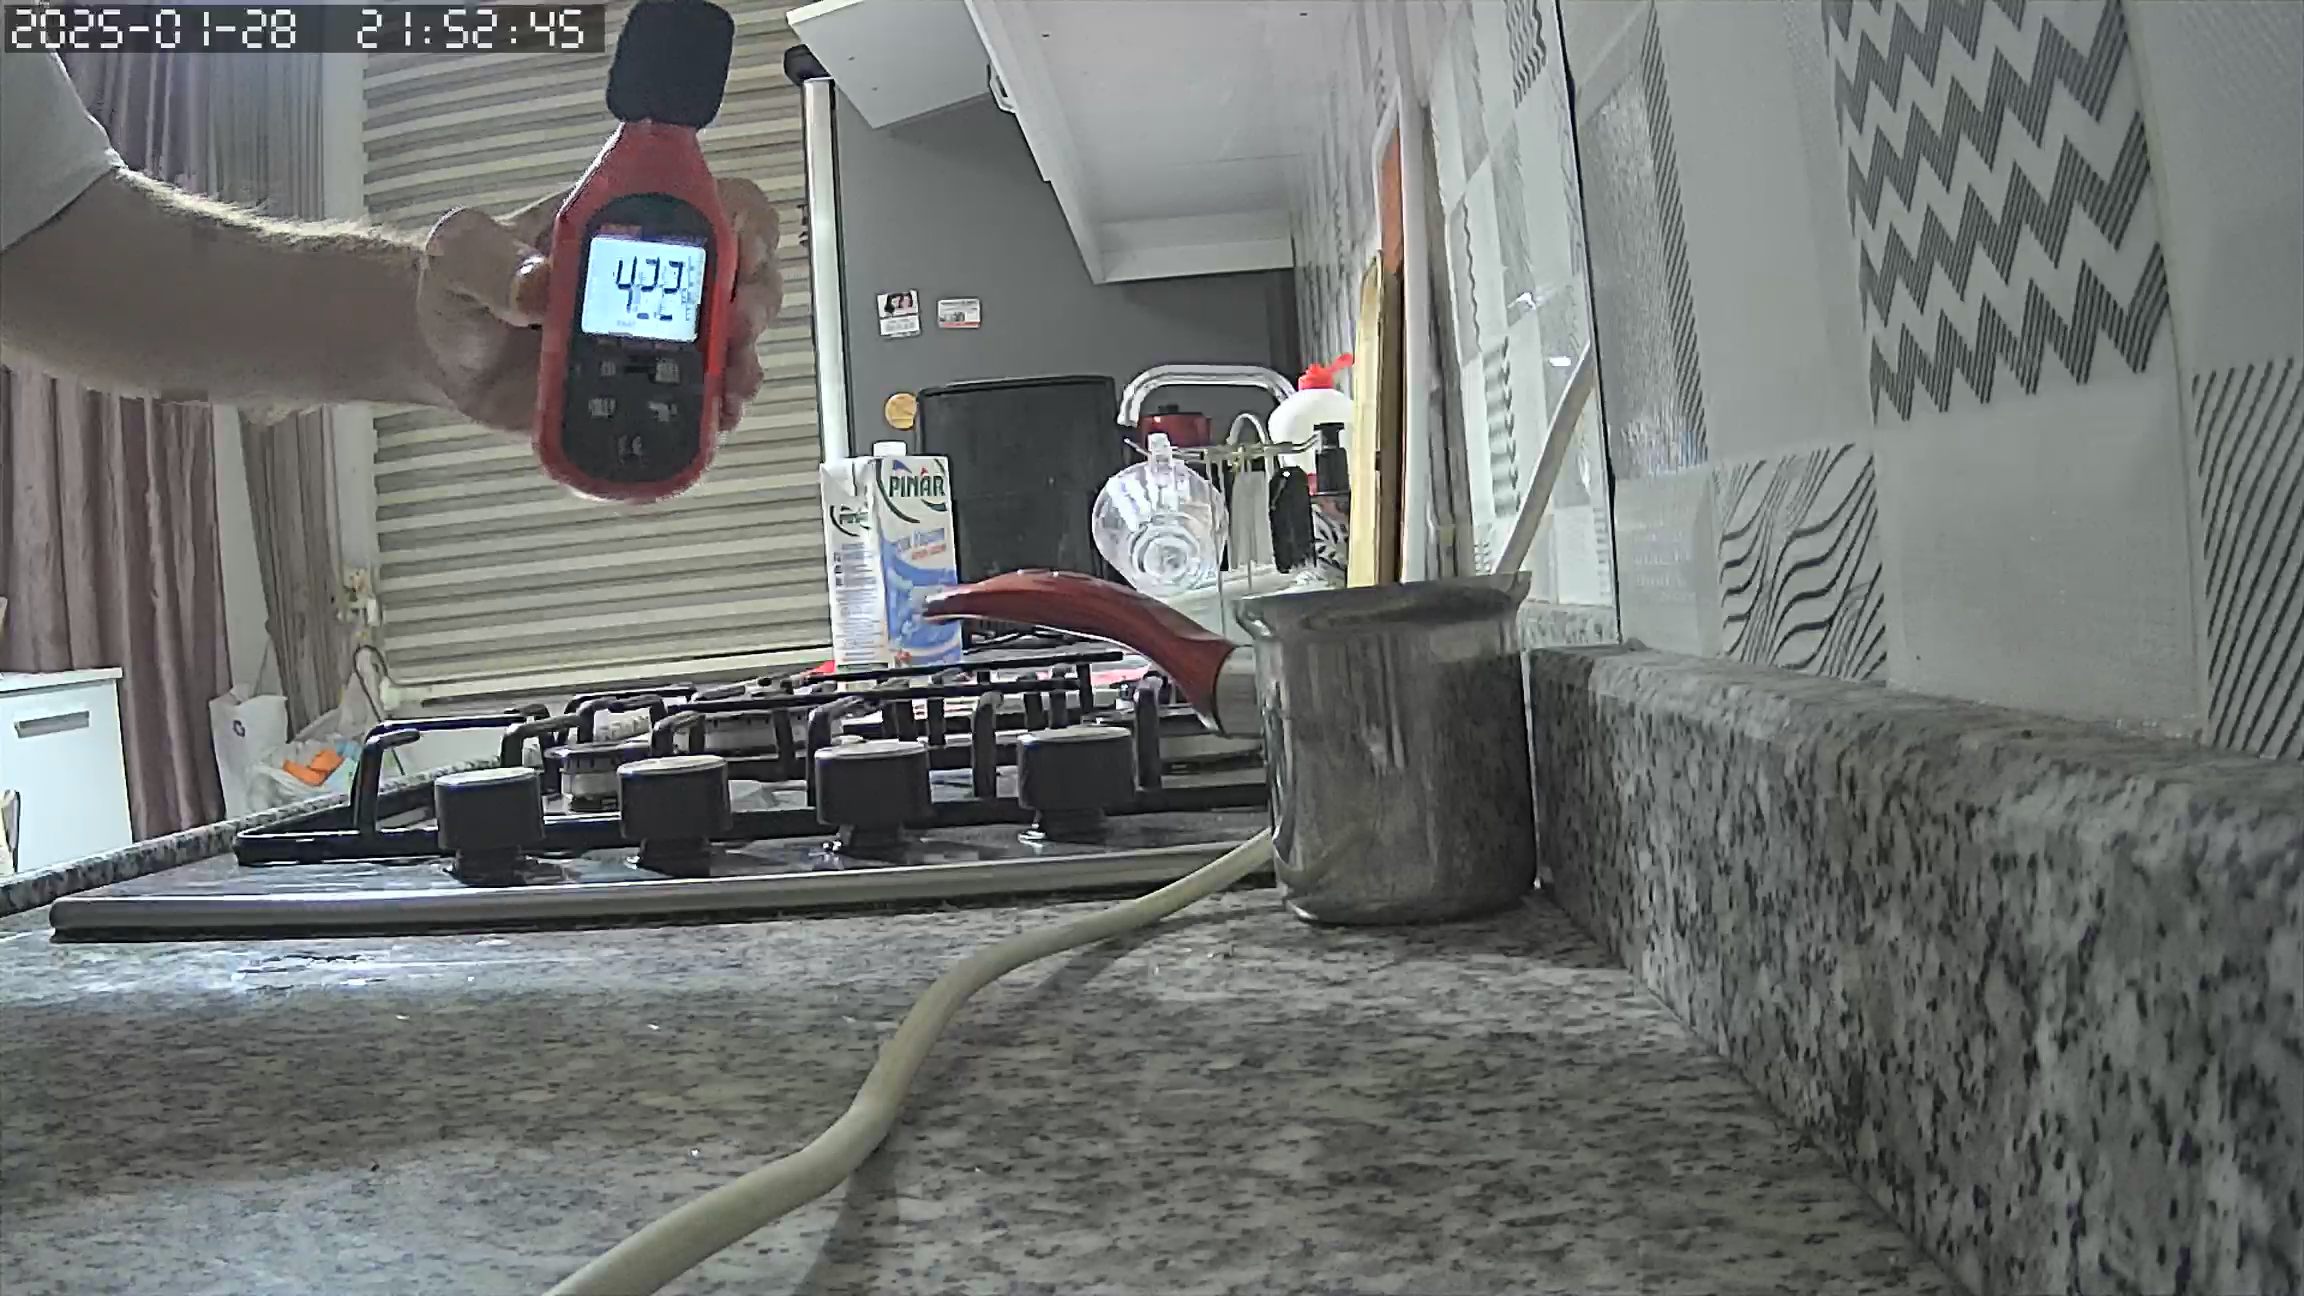screen: (578, 233, 706, 343)
